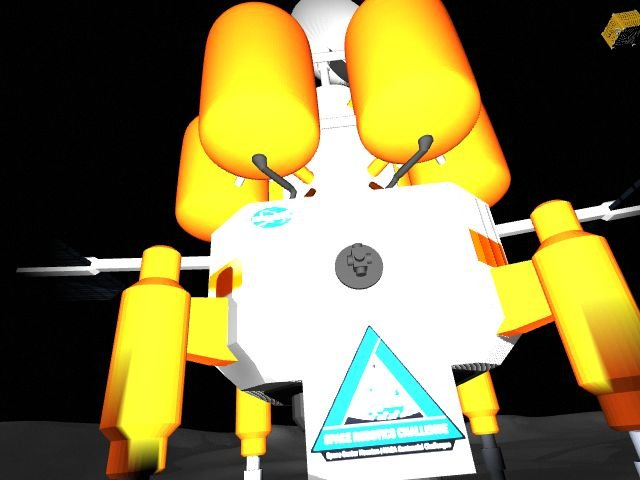basemarker: (311, 325, 466, 462)
